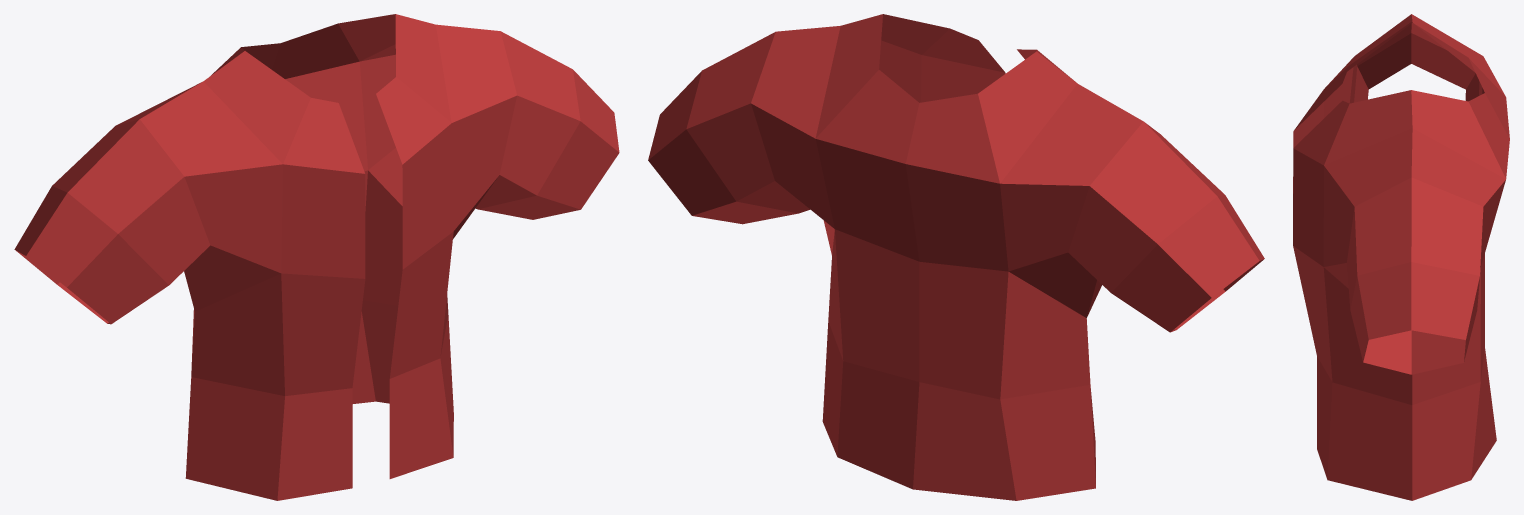
File: Human_Male_TShirt.fbx
The picture shows the model from 3 angles, left to right: view 1: azimuth 30°, elevation 25°; view 2: azimuth 150°, elevation 25°; view 3: azimuth 270°, elevation 25°; orthographic projection. The views are drawn at different scales.
Parts seen in each view (by area): view 1: Human_Male_TShirt; view 2: Human_Male_TShirt; view 3: Human_Male_TShirt.
Boxes of the visible parts, left/top/right/bottom form: Human_Male_TShirt: left=14, top=14, right=619, bottom=500; Human_Male_TShirt: left=648, top=14, right=1264, bottom=500; Human_Male_TShirt: left=1293, top=14, right=1509, bottom=500.
Bounding box in the file's own units: 95.03 × 63.95 × 32.69.
